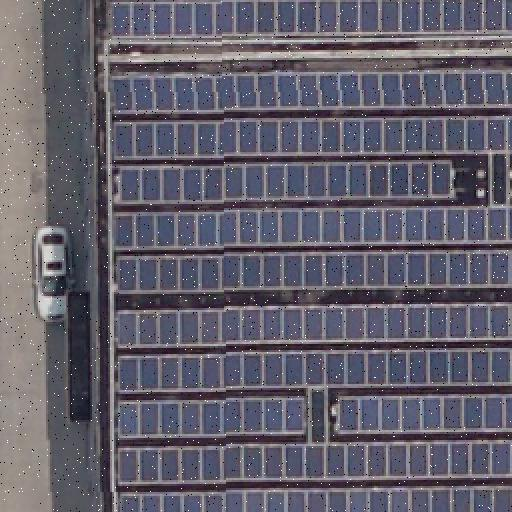solar-panel: (112, 300, 512, 348), (112, 204, 512, 252), (108, 65, 512, 111), (112, 113, 512, 159), (113, 349, 511, 395), (112, 250, 512, 294), (116, 440, 512, 484), (104, 1, 512, 39), (109, 160, 451, 204), (116, 484, 512, 512), (115, 395, 309, 437), (336, 394, 512, 434)
